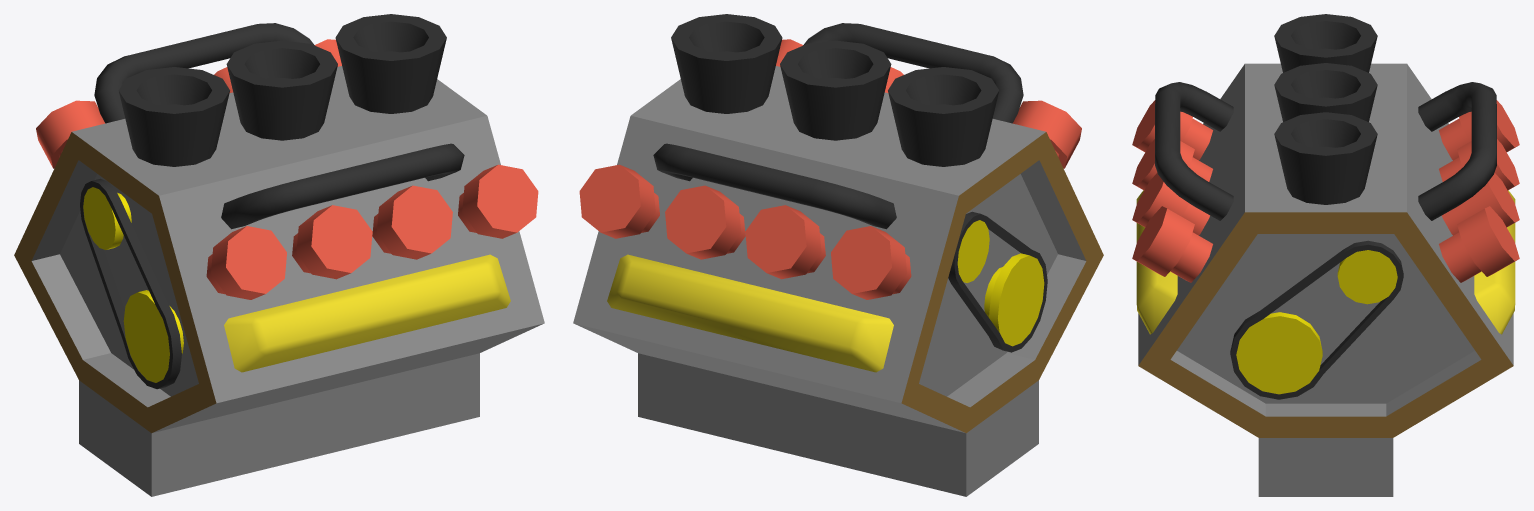
File: engine_7.fbx
3 views of the same model, side by side, from view 1: azimuth 30°, elevation 25°; view 2: azimuth 150°, elevation 25°; view 3: azimuth 270°, elevation 25° (orthographic). The views are drawn at different scales.
Parts seen in each view (by area): view 1: engine_7; view 2: engine_7; view 3: engine_7.
Boxes of the visible parts, left/top/right/bottom form: engine_7: left=14, top=14, right=544, bottom=496; engine_7: left=573, top=14, right=1103, bottom=496; engine_7: left=1132, top=14, right=1519, bottom=496.
Bounding box in the file's own units: 172 × 183 × 190.
